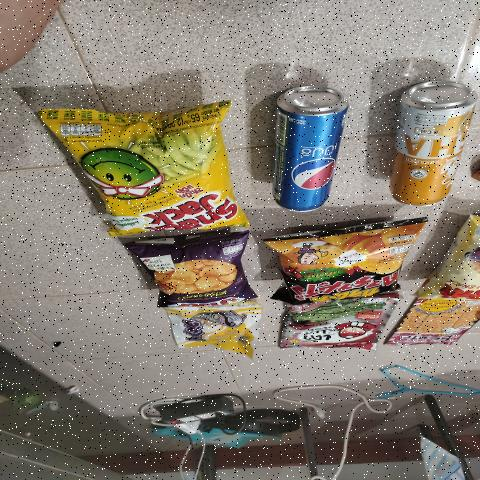bento_red: (385, 300, 480, 345)
karamujo: (268, 222, 393, 303)
party_purple: (133, 236, 258, 306)
pepsi_blue: (268, 95, 352, 212)
singha_yellow: (386, 90, 470, 206)
snack_jack: (52, 103, 230, 238)
taokaenoi: (289, 302, 382, 348)
taro_yellow: (173, 308, 257, 355)
